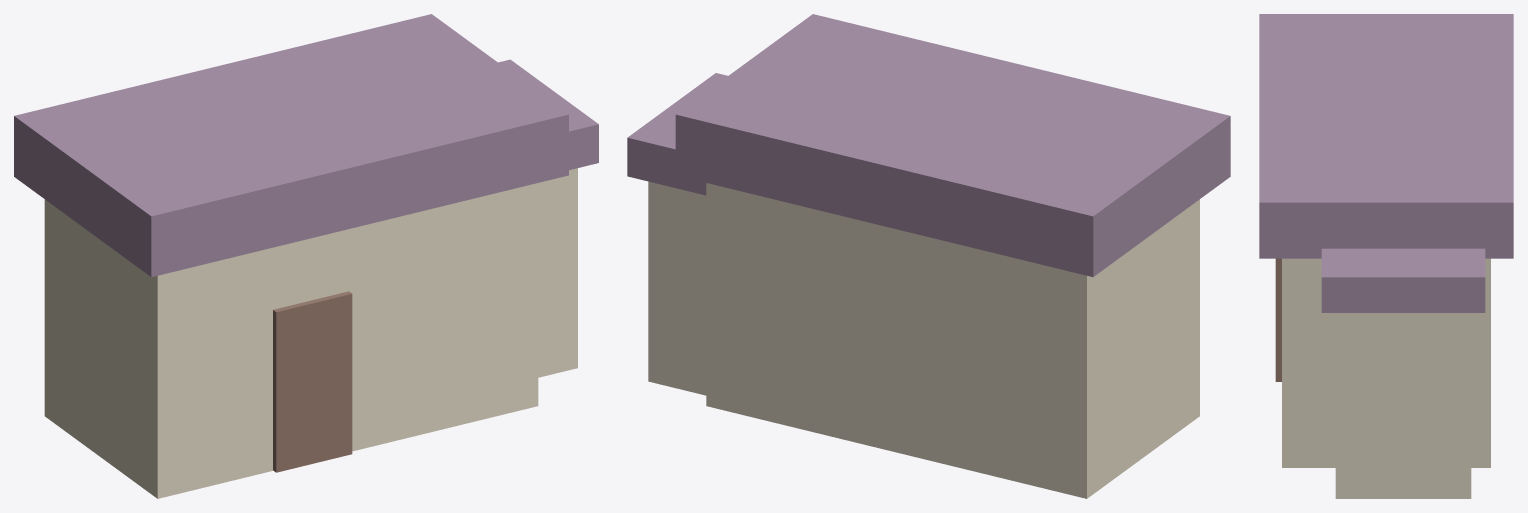
The model's file is house_a_lo1.glb.
3 views of the same model, side by side, from view 1: azimuth 30°, elevation 25°; view 2: azimuth 150°, elevation 25°; view 3: azimuth 270°, elevation 25° (orthographic). The views are drawn at different scales.
Visible parts, largest first — view 1: house_a_lo1; view 2: house_a_lo1; view 3: house_a_lo1.
Boxes of the visible parts, x1,y1,x2,y2 form: house_a_lo1: [14, 14, 598, 498]; house_a_lo1: [627, 14, 1230, 498]; house_a_lo1: [1259, 14, 1513, 498].
Bounding box in the file's own units: 4.55 × 2.68 × 2.25.
